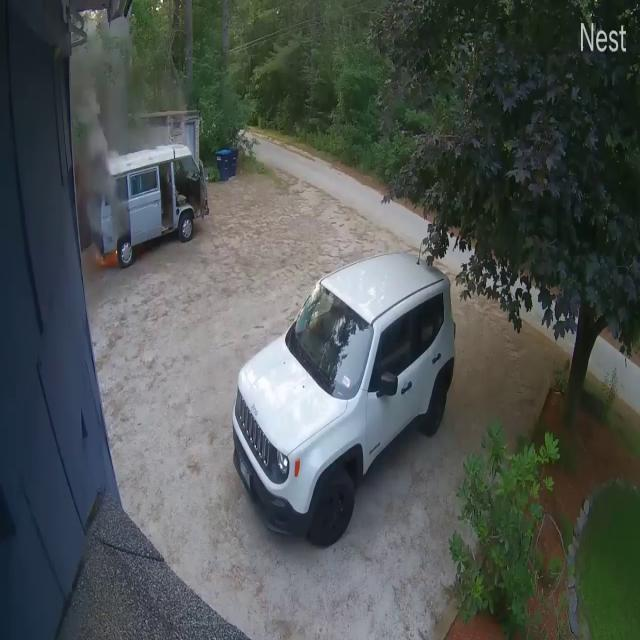Smoke: (71, 30, 123, 222)
